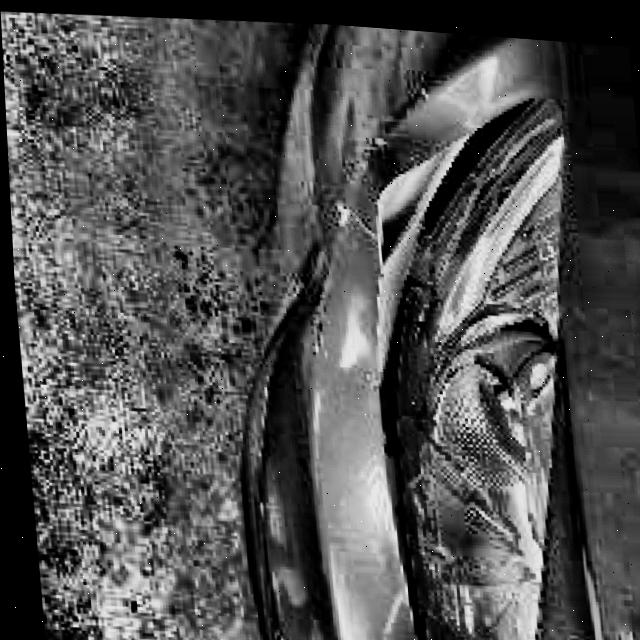head_lamp: (378, 158, 604, 640)
